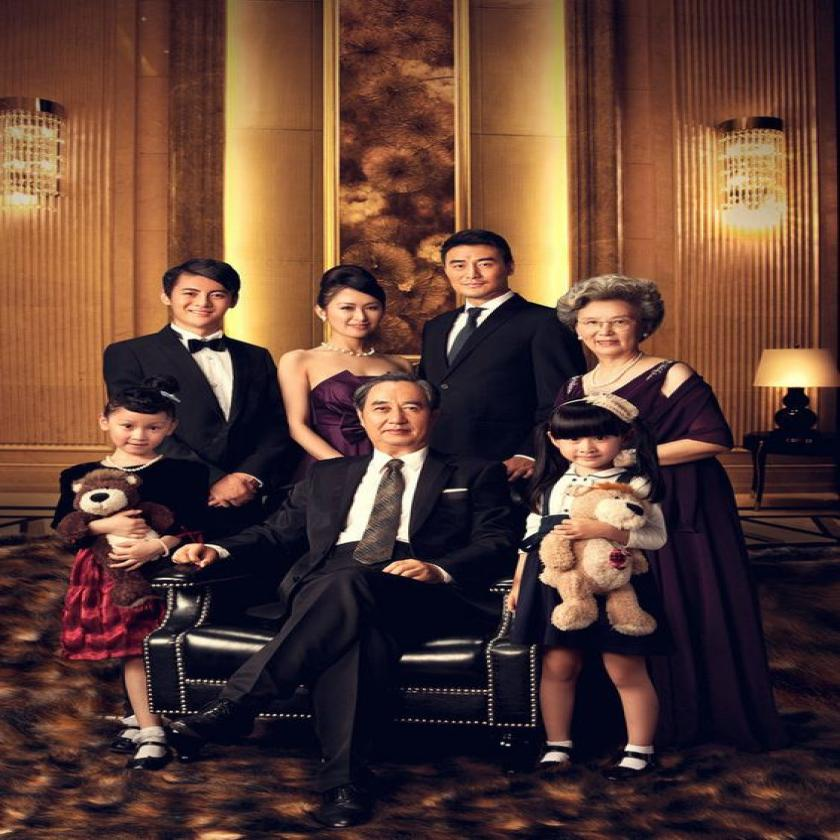Sin_casco: (566, 272, 657, 370), (354, 374, 448, 461), (546, 396, 640, 478), (97, 378, 186, 455), (309, 273, 397, 350), (162, 255, 240, 338), (434, 228, 519, 303)
